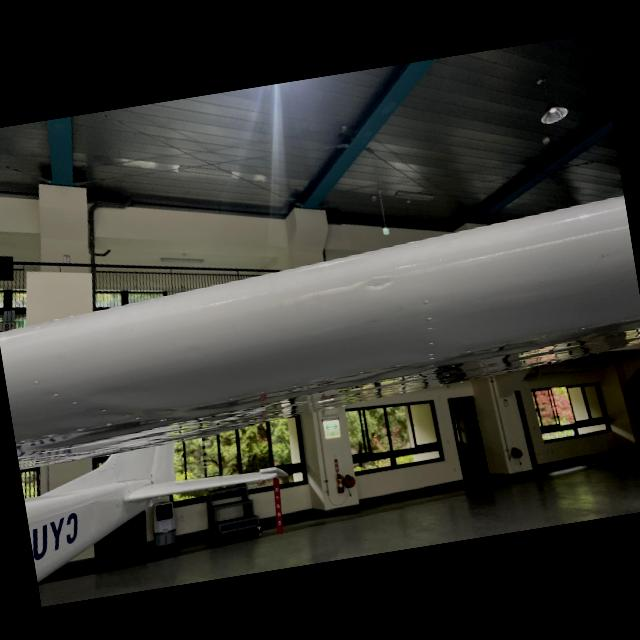dent: (344, 265, 414, 302)
